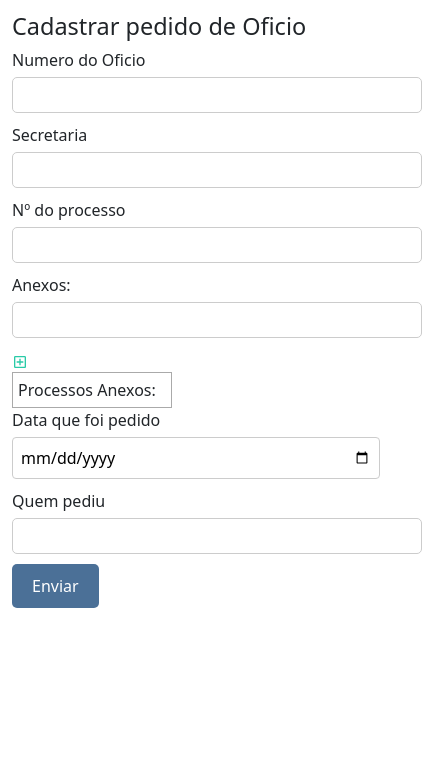
it: add anexos
Type "12345/2023" into the field labelled "Anexos:" at {"x": 217, "y": 320}, box [12,302,422,338]
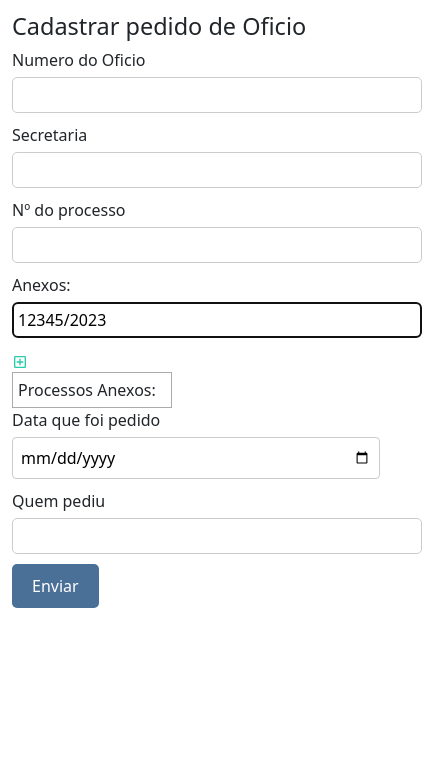
Click the icon with test id "addanexos" at {"x": 20, "y": 362}, box [12,354,28,370]
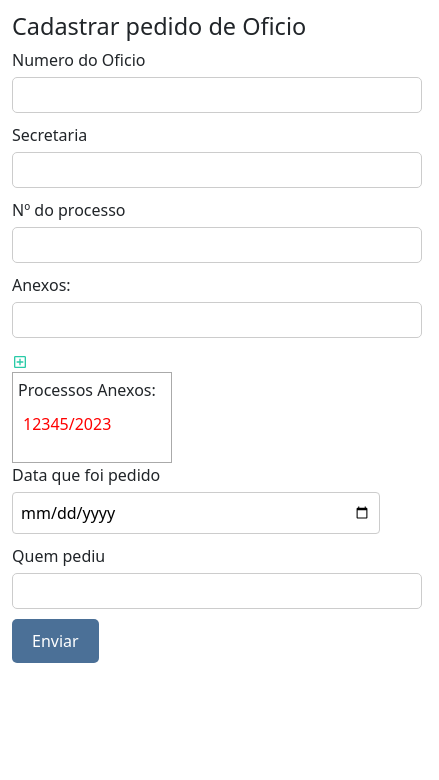
Expected: the field labelled "Anexos:" is empty
Type "7897/2023" into the field labelled "Anexos:" at {"x": 217, "y": 320}, box [12,302,422,338]
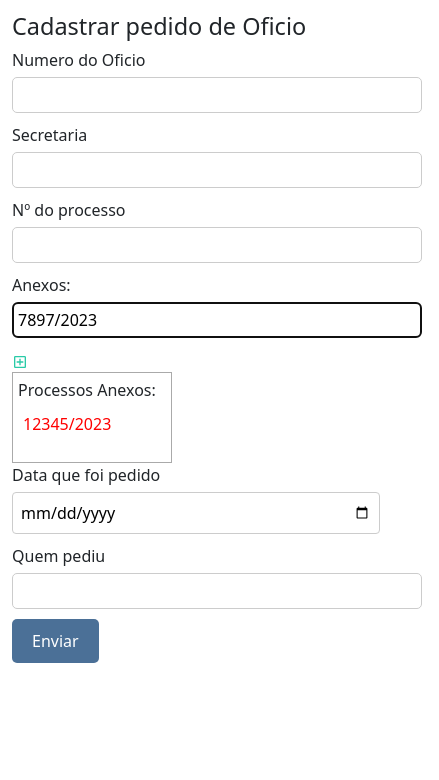
Click the icon with test id "addanexos" at {"x": 20, "y": 362}, box [12,354,28,370]
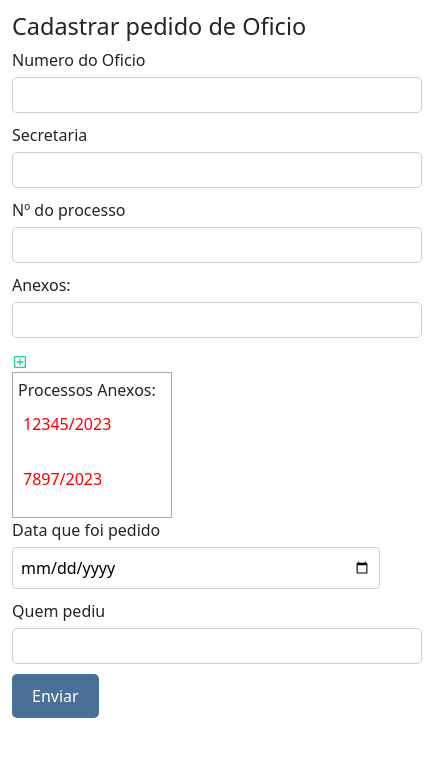
Expected: the field labelled "Anexos:" is empty
Type "4455/2023" into the field labelled "Anexos:" at {"x": 217, "y": 320}, box [12,302,422,338]
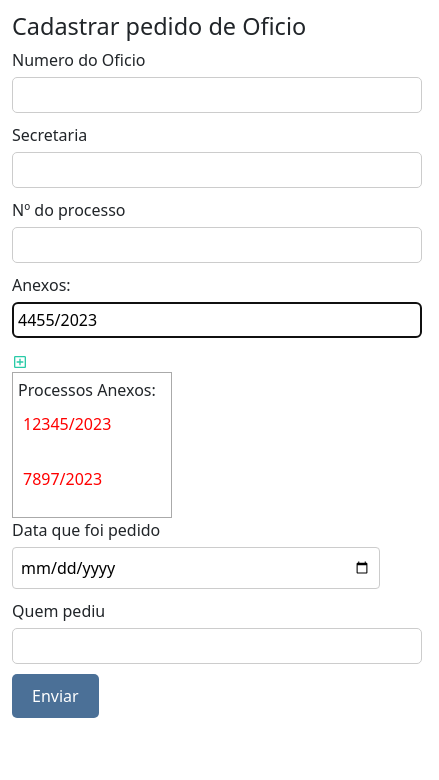
Click the icon with test id "addanexos" at {"x": 20, "y": 362}, box [12,354,28,370]
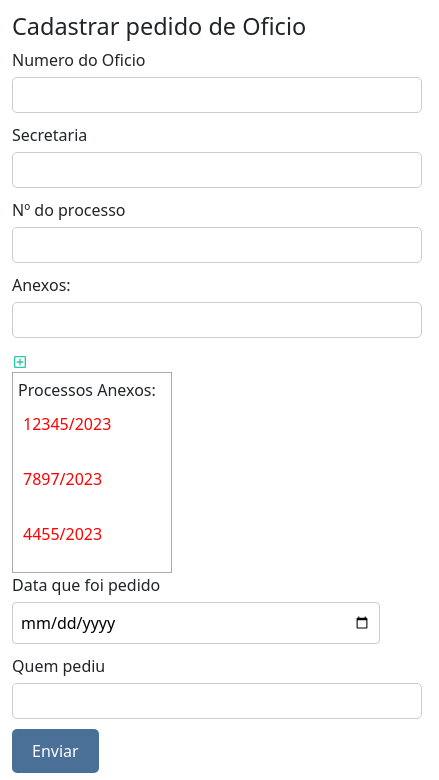
Expected: the list item "12345/2023" is shown, [18,407,116,441]
Expected: the list item "7897/2023" is shown, [18,462,107,496]
Expected: the field labelled "Anexos:" is empty, [12,302,422,338]
